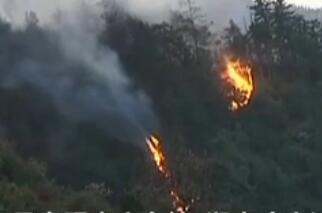fire: (145, 135, 189, 211), (210, 49, 256, 110)
yanwu: (1, 1, 155, 149)
